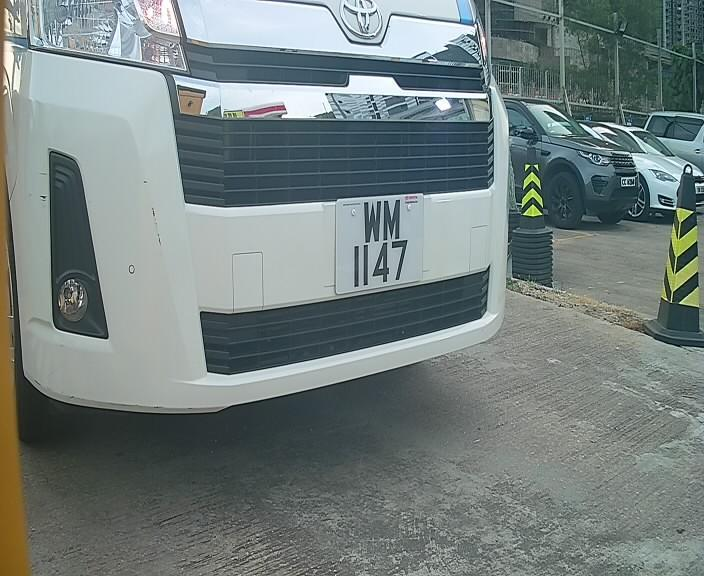privatecar: (29, 6, 591, 440)
